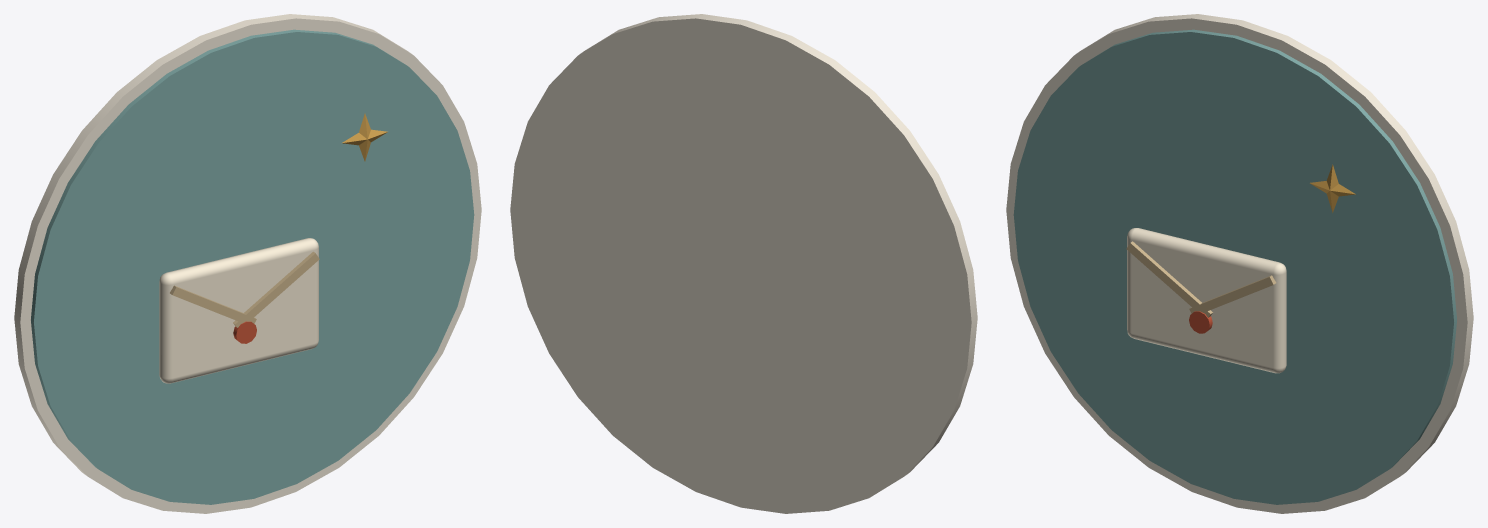
The model's file is art-email-halo.glb.
3 views of the same model, side by side, from view 1: azimuth 30°, elevation 25°; view 2: azimuth 150°, elevation 25°; view 3: azimuth 330°, elevation 25° (orthographic).
Visible parts, largest first — view 1: art-email-halo_m_7fa9a6, art-email-halo_m_efe7d8, art-email-halo_m_f3e9d4, art-email-halo_m_c9b38c, art-email-halo_m_cfa04e; view 2: art-email-halo_m_efe7d8; view 3: art-email-halo_m_7fa9a6, art-email-halo_m_efe7d8, art-email-halo_m_f3e9d4, art-email-halo_m_c9b38c, art-email-halo_m_cfa04e.
Boxes of the visible parts, x1,y1,x2,y2 form: art-email-halo_m_7fa9a6: (31, 29, 474, 504); art-email-halo_m_efe7d8: (14, 14, 481, 513); art-email-halo_m_f3e9d4: (159, 238, 318, 383); art-email-halo_m_c9b38c: (170, 251, 319, 327); art-email-halo_m_cfa04e: (342, 113, 387, 161); art-email-halo_m_efe7d8: (510, 14, 977, 513); art-email-halo_m_7fa9a6: (1013, 29, 1456, 504); art-email-halo_m_efe7d8: (1006, 14, 1473, 513); art-email-halo_m_f3e9d4: (1127, 228, 1286, 373); art-email-halo_m_c9b38c: (1126, 241, 1276, 317); art-email-halo_m_cfa04e: (1310, 164, 1355, 212).
Bounding box in the file's own units: 0.88 × 0.88 × 0.075.
